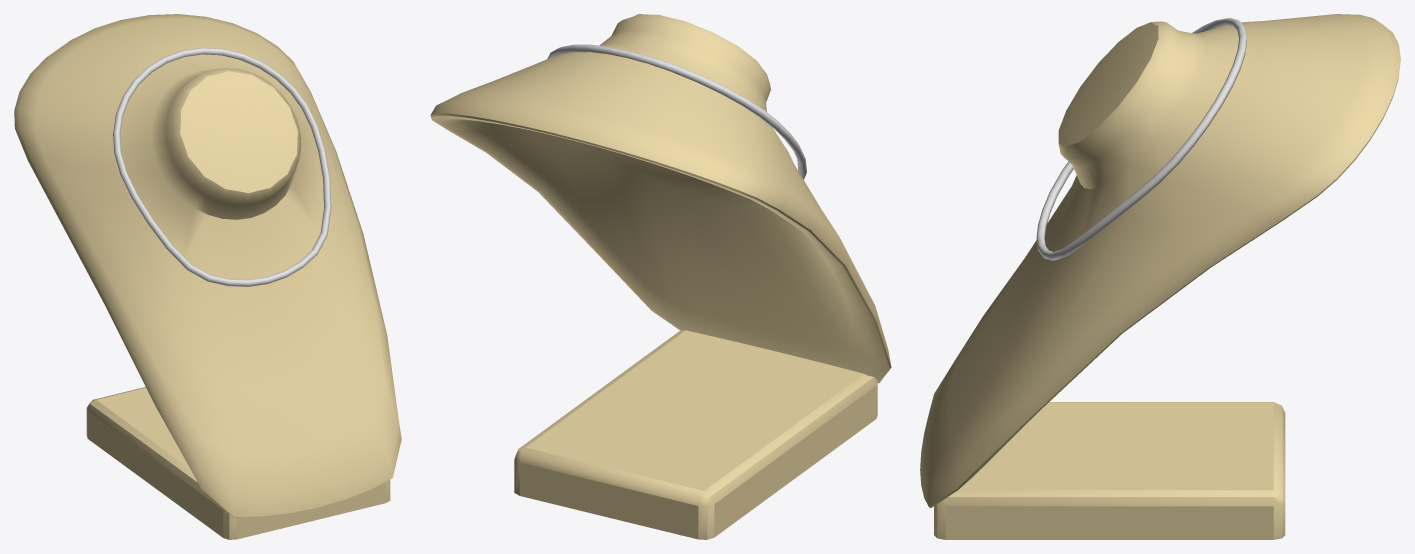
Rendered from Necklace_11.fbx.
3 views of the same model, side by side, from view 1: azimuth 30°, elevation 25°; view 2: azimuth 150°, elevation 25°; view 3: azimuth 270°, elevation 25° (orthographic). The views are drawn at different scales.
Parts seen in each view (by area): view 1: SM_Stand_Necklace_15, SM_Necklace_17; view 2: SM_Stand_Necklace_15, SM_Necklace_17; view 3: SM_Stand_Necklace_15, SM_Necklace_17.
Boxes of the visible parts, x1,y1,x2,y2 form: SM_Stand_Necklace_15: (14, 14, 401, 539); SM_Necklace_17: (113, 47, 331, 286); SM_Stand_Necklace_15: (430, 14, 891, 539); SM_Necklace_17: (547, 44, 806, 179); SM_Stand_Necklace_15: (920, 14, 1400, 539); SM_Necklace_17: (1036, 18, 1247, 260).
Size of the model in its own units: 22.51 by 29.29 by 27.78.
